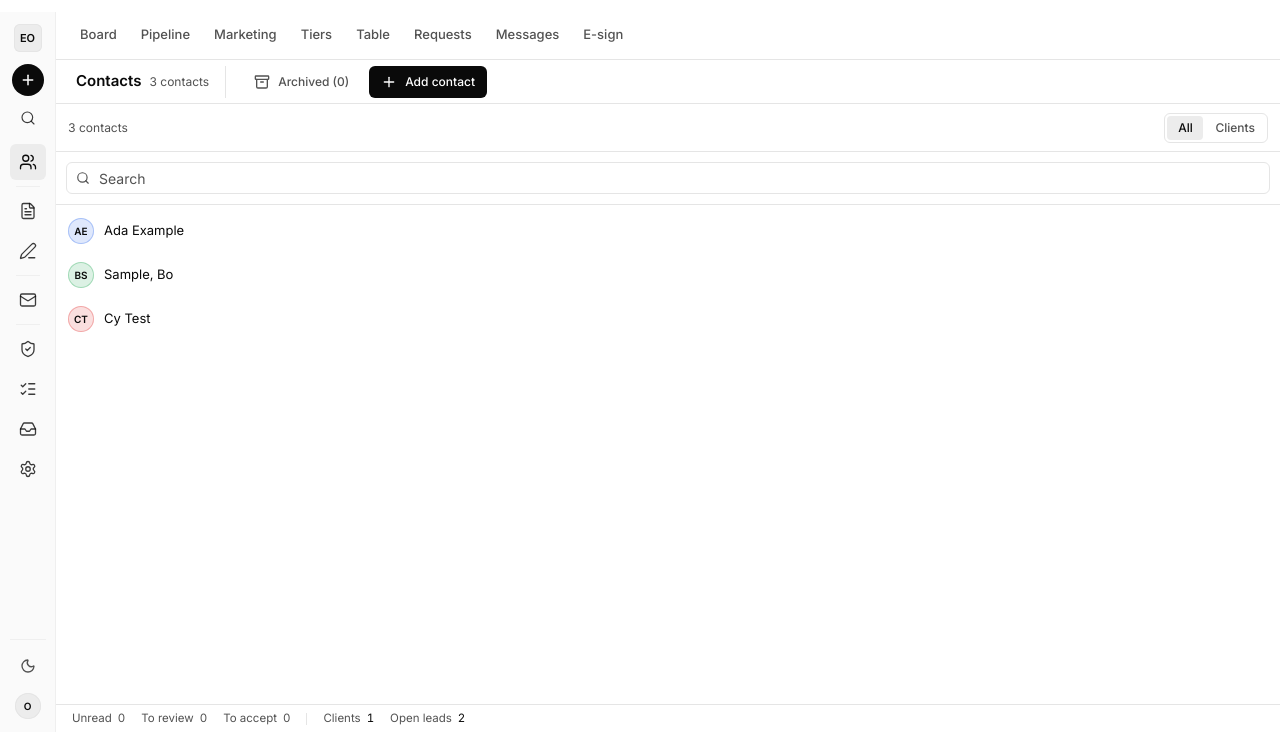
contacts index › searches name, email, business, phone digits and the spouse
The image size is (1280, 732).
Expected: the link "Ada Example" is shown, top-left (104, 222), bottom-right (184, 238)
Type "bo@example" into the field named "Search contacts" at (668, 178), box top-left (66, 162), bottom-right (1270, 194)
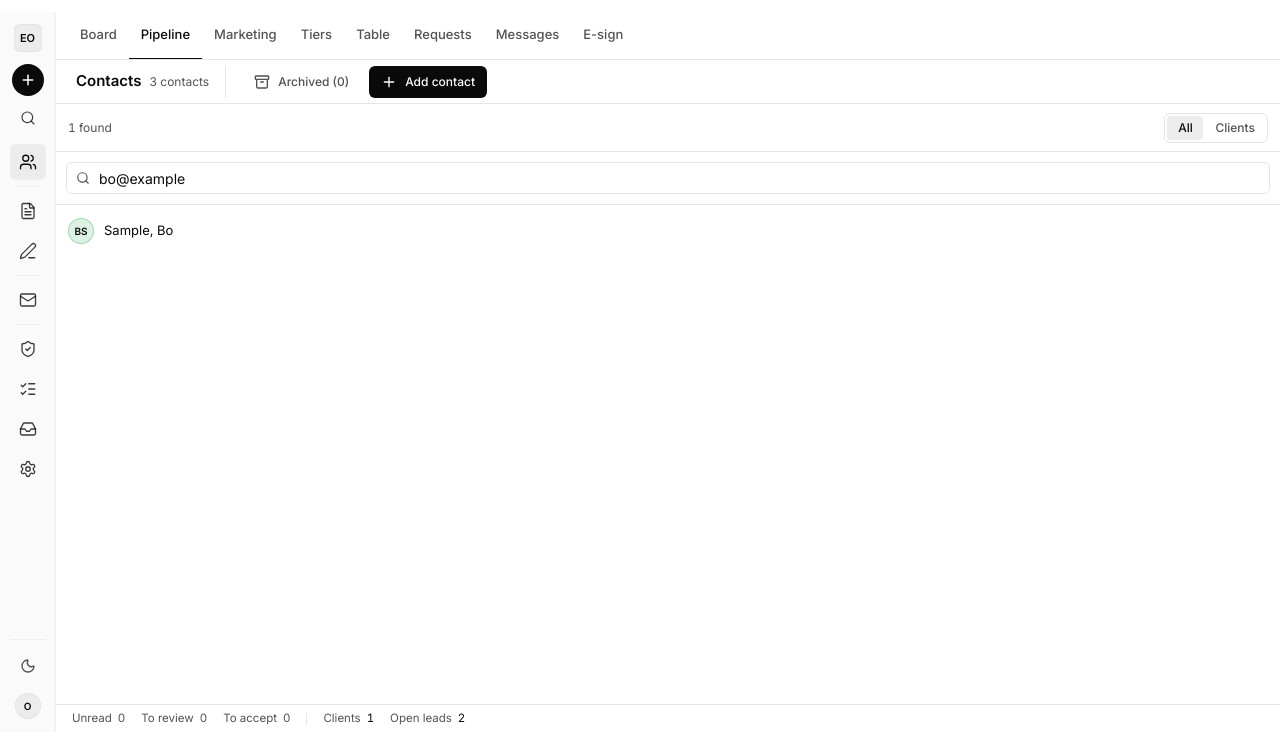
Replace the text in the field named "Search contacts" with "studio" at (668, 178), box top-left (66, 162), bottom-right (1270, 194)
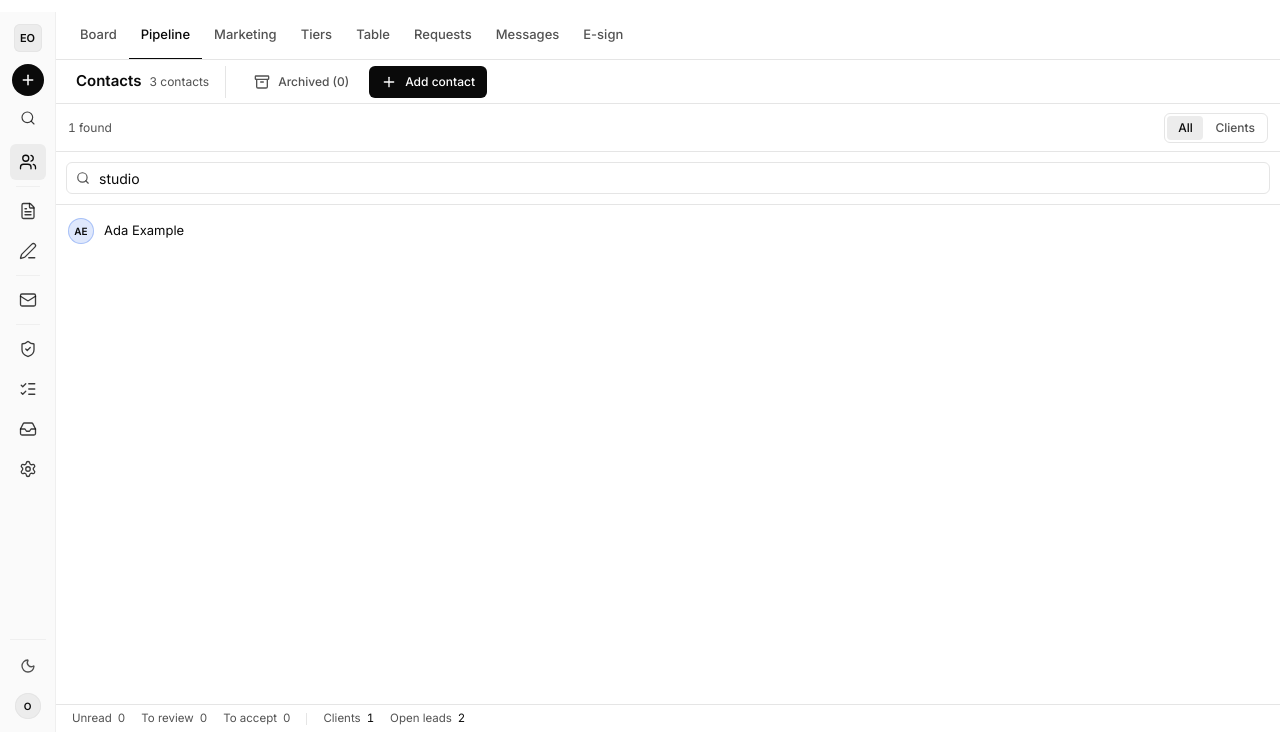
Replace the text in the field named "Search contacts" with "0100003" at (668, 178), box top-left (66, 162), bottom-right (1270, 194)
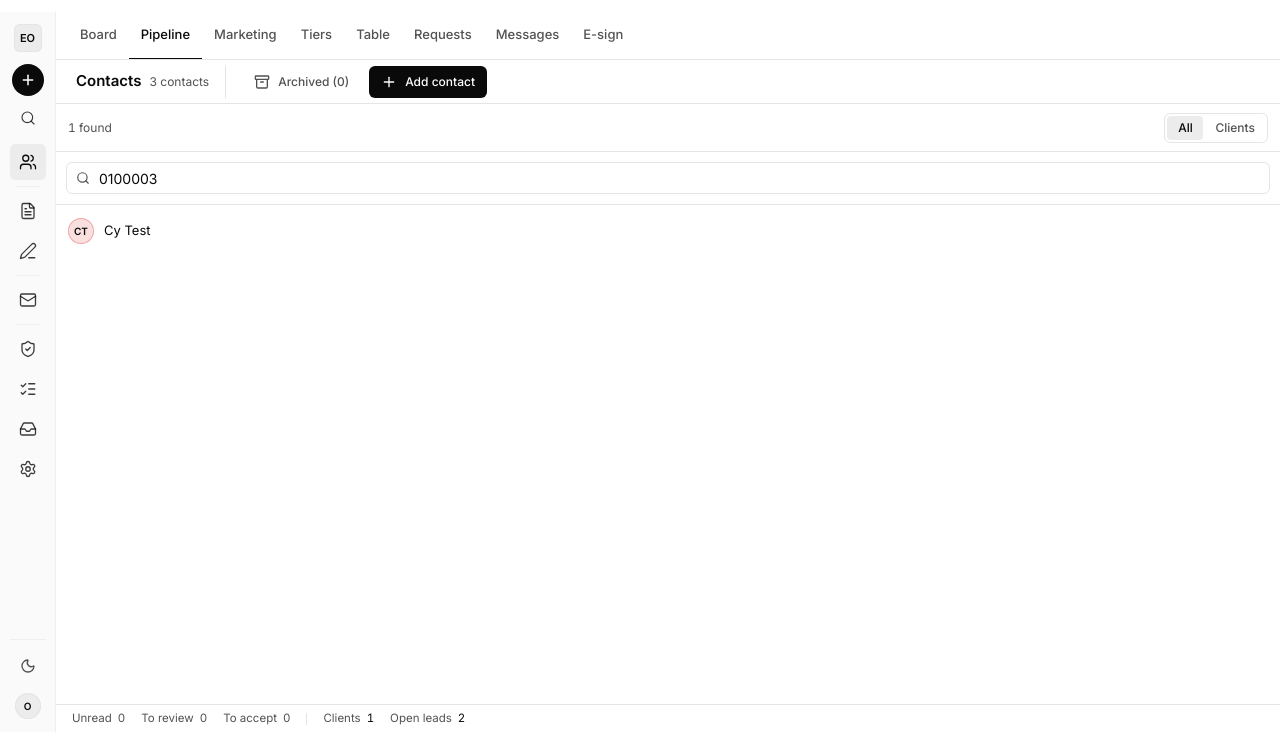
Replace the text in the field named "Search contacts" with "al" at (668, 178), box top-left (66, 162), bottom-right (1270, 194)
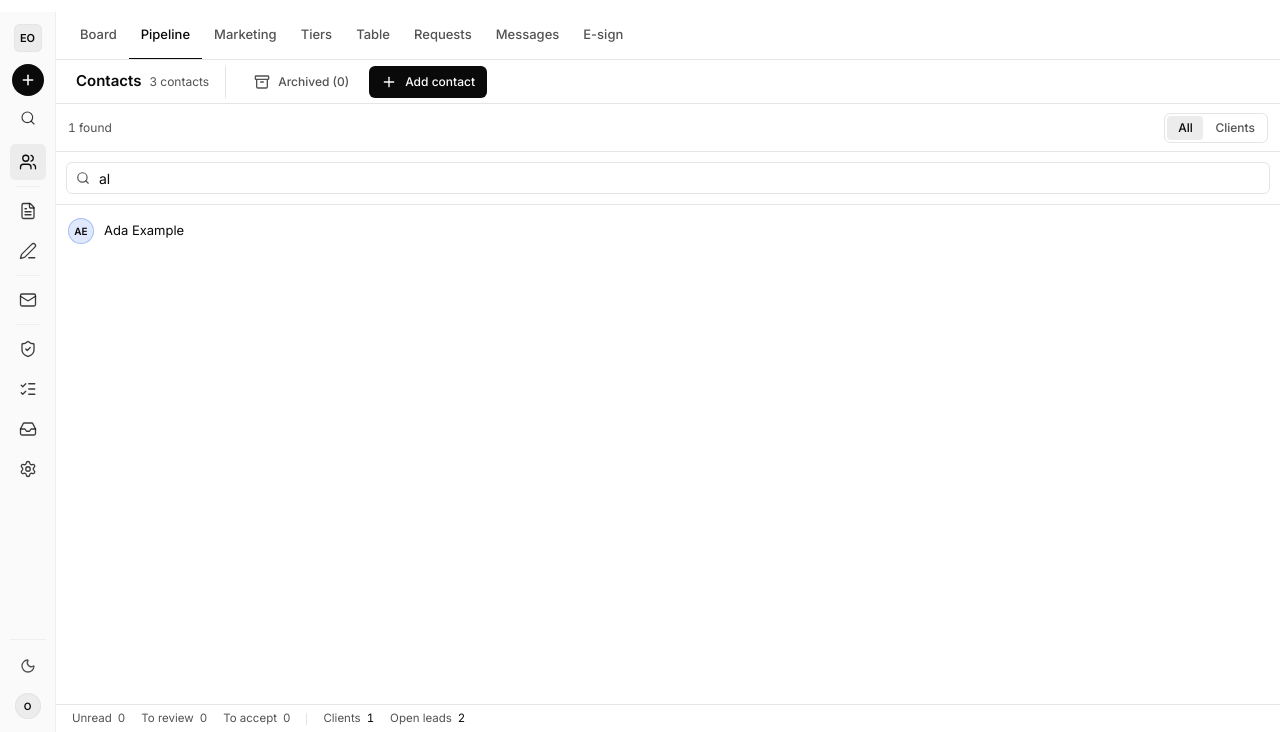
Replace the text in the field named "Search contacts" with "nobody" at (668, 178), box top-left (66, 162), bottom-right (1270, 194)
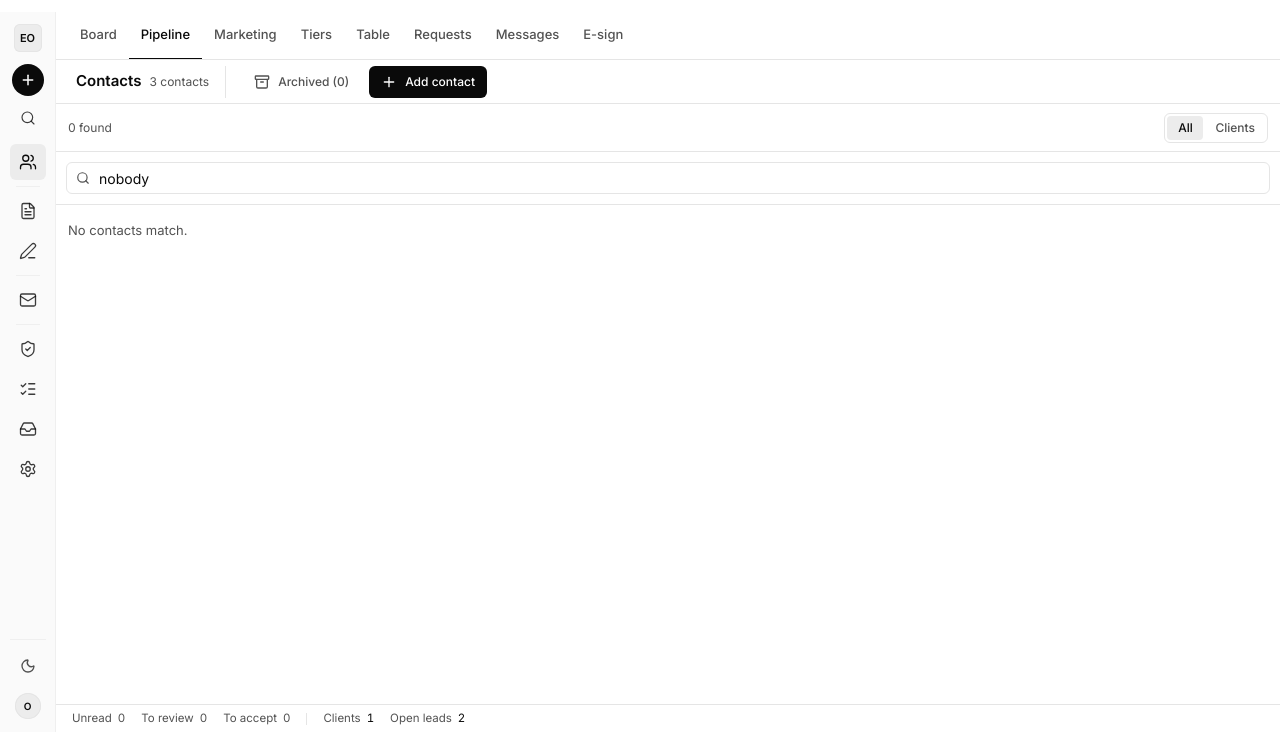
Result: the text "No contacts match." is shown at top-left (68, 222), bottom-right (188, 238)
